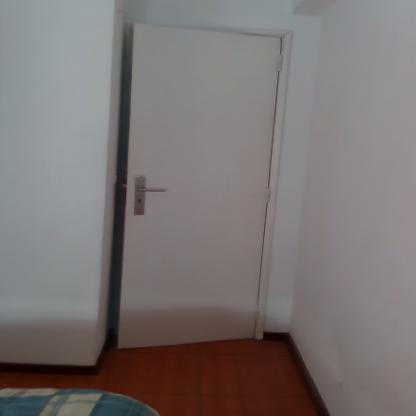door: (130, 22, 270, 350)
hinged: (276, 53, 284, 72), (265, 185, 271, 204), (254, 303, 261, 319)
lever: (138, 186, 171, 194)
